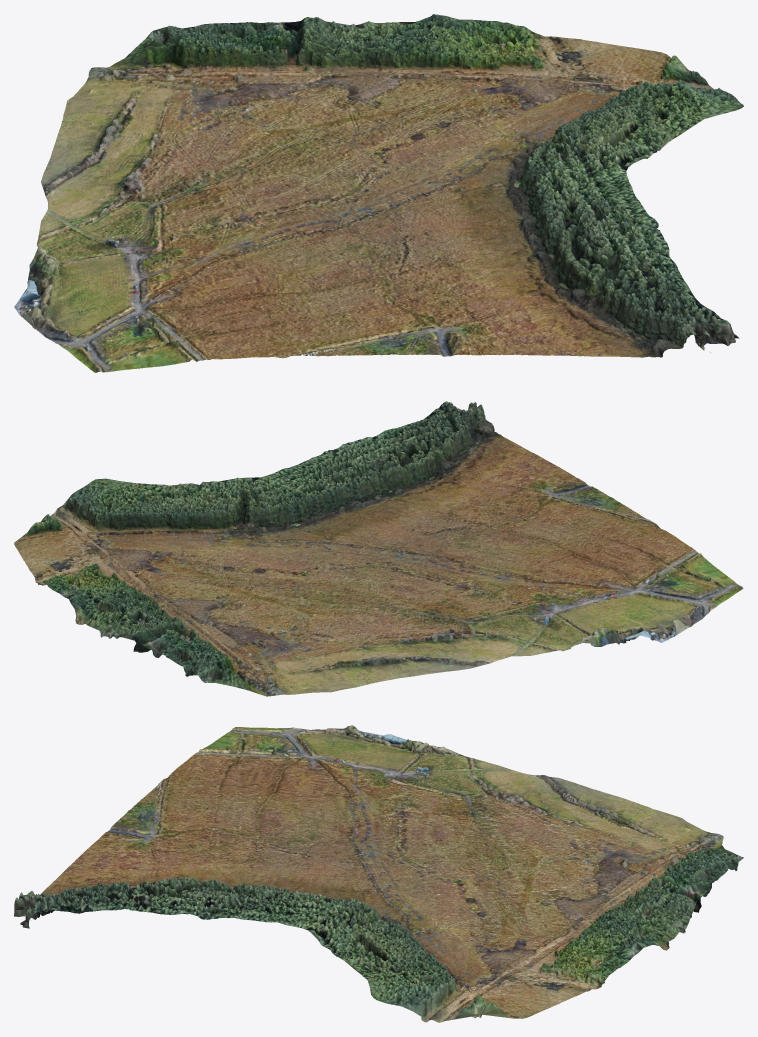
File: Glashapullagh_Restoration_Area.glb
The picture shows the model from 3 angles, top to bottom: view 1: azimuth 30°, elevation 25°; view 2: azimuth 150°, elevation 25°; view 3: azimuth 270°, elevation 25°; orthographic projection. The views are drawn at different scales.
Bounding box in the file's own units: 800 × 45.3 × 830.
1 material, 1 textured.
